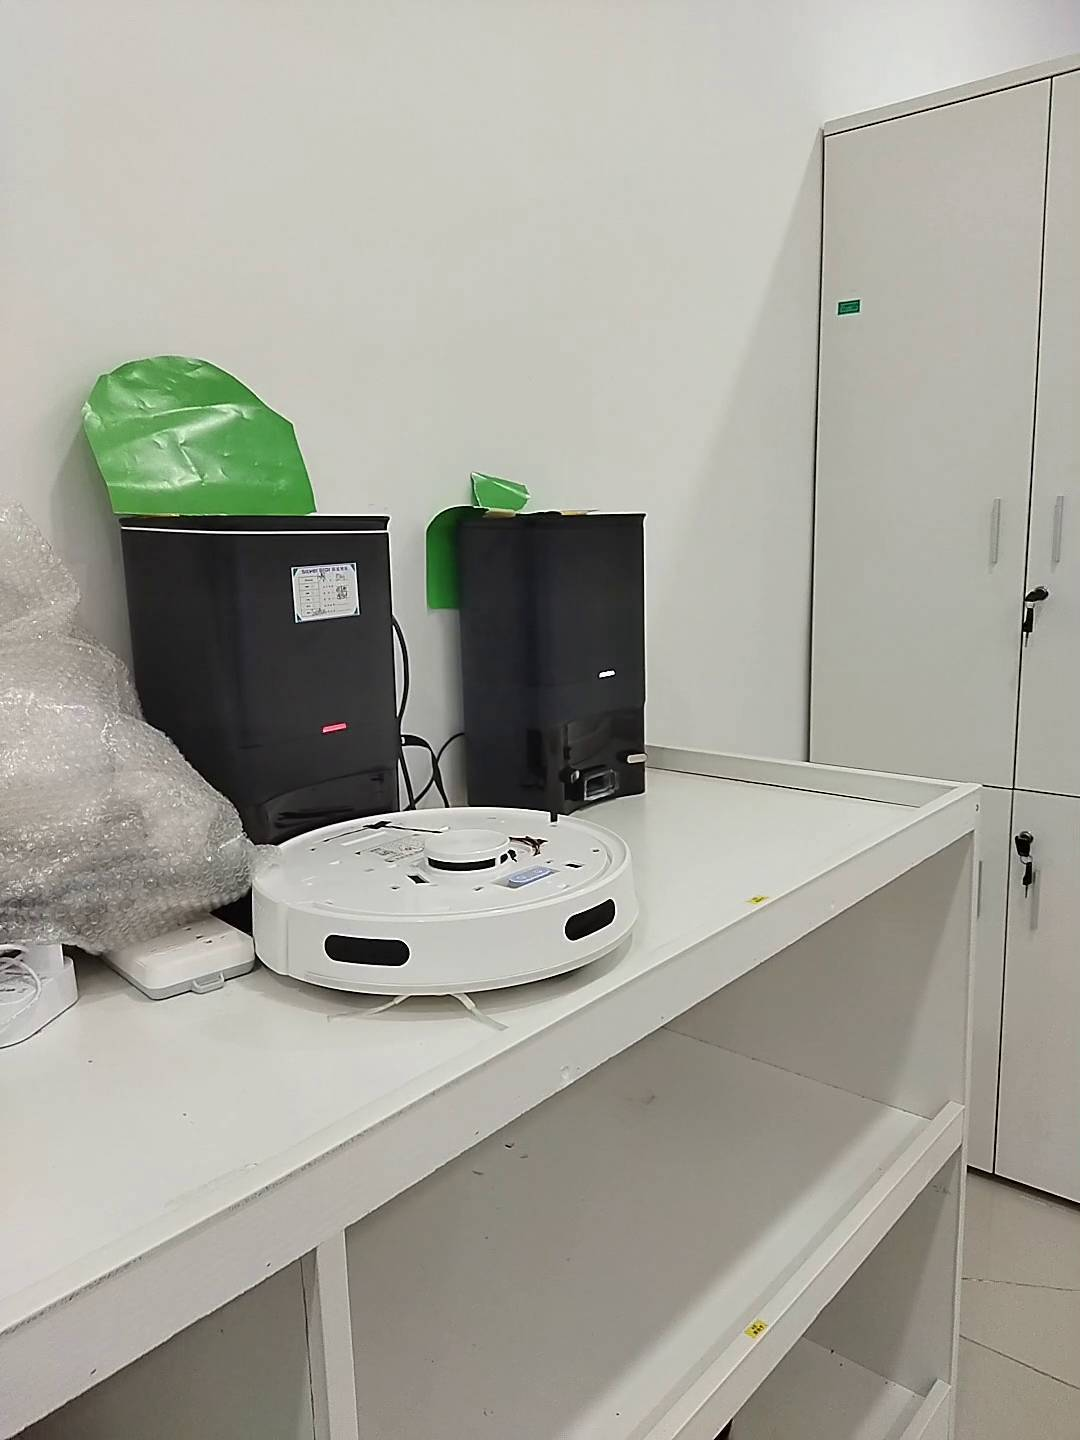dust collecting barrel: (119, 513, 405, 852), (447, 513, 653, 818)
